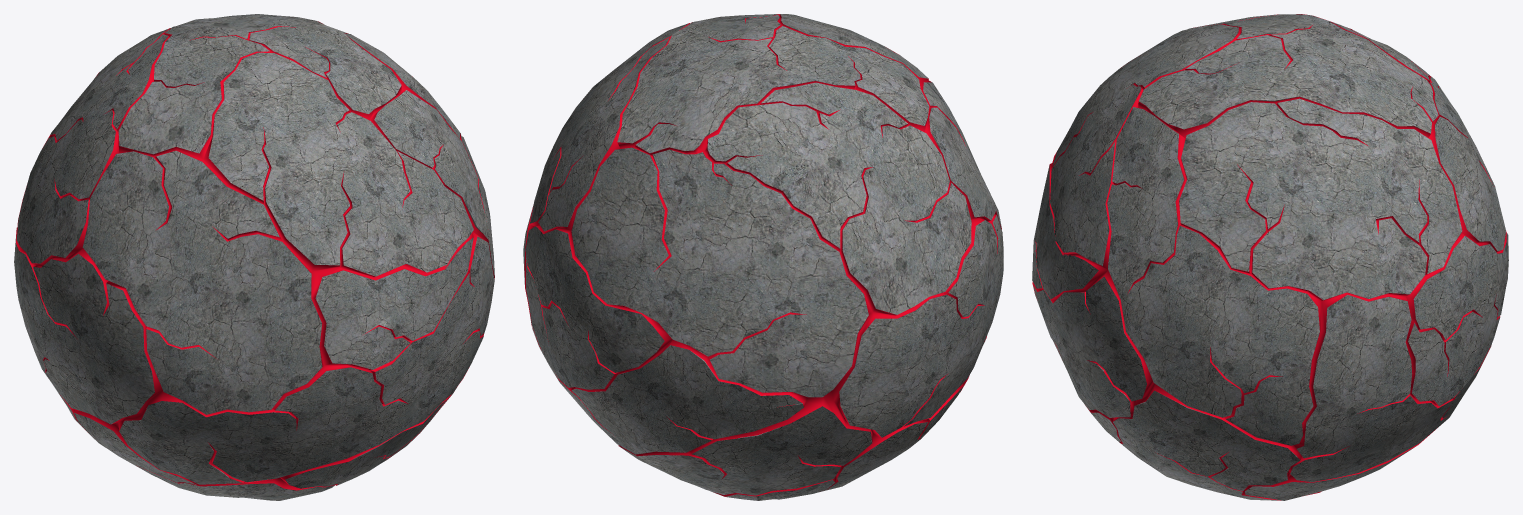
The model's file is MoonFaceless.fbx.
The picture shows the model from 3 angles, left to right: view 1: azimuth 30°, elevation 25°; view 2: azimuth 150°, elevation 25°; view 3: azimuth 270°, elevation 25°; orthographic projection.
Visible parts, largest first — view 1: m0; view 2: m0; view 3: m0.
Boxes of the visible parts, x1,y1,x2,y2 form: m0: [14, 14, 494, 500]; m0: [523, 14, 1003, 500]; m0: [1032, 14, 1508, 500].
Bounding box in the file's own units: 1648 × 1703 × 1664.
2 materials, 1 textured.
